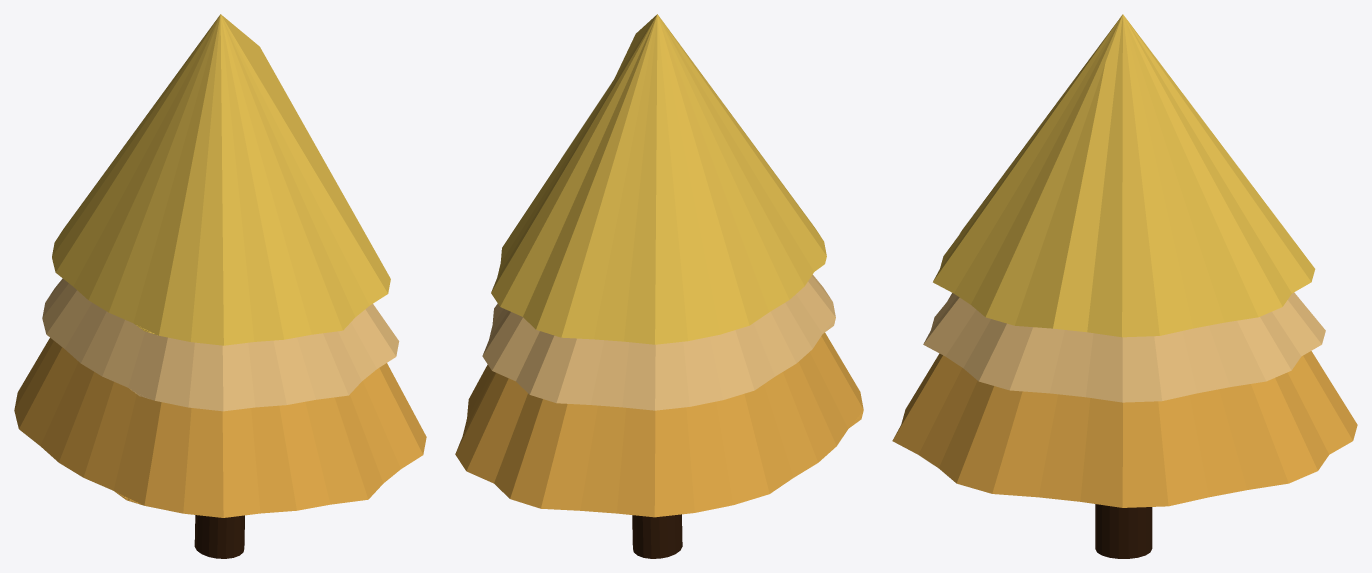
File: pinetree.fbx
3 renders of one model, left to right at view 1: azimuth 30°, elevation 25°; view 2: azimuth 150°, elevation 25°; view 3: azimuth 270°, elevation 25°, orthographic.
Visible parts, largest first — view 1: Cone.002, Cone, Cone.001, Cylinder; view 2: Cone.002, Cone, Cone.001, Cylinder; view 3: Cone.002, Cone, Cone.001, Cylinder.
Part boxes in pixels (x1,y1,x2,y2): Cone.002: (52,14,390,345); Cone: (14,338,426,517); Cone.001: (42,278,399,411); Cylinder: (194,515,244,558); Cone.002: (491,14,826,344); Cone: (455,332,863,517); Cone.001: (482,274,835,410); Cylinder: (632,514,682,558); Cone.002: (933,14,1315,337); Cone: (892,351,1357,507); Cone.001: (923,292,1325,402); Cylinder: (1095,504,1152,558).
Size of the model in its own units: 313 by 482 by 380.
